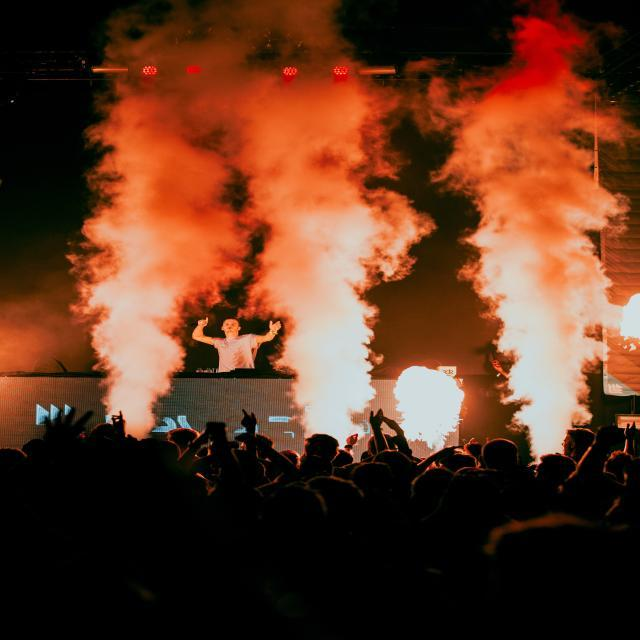Smoke: (108, 10, 202, 426)
